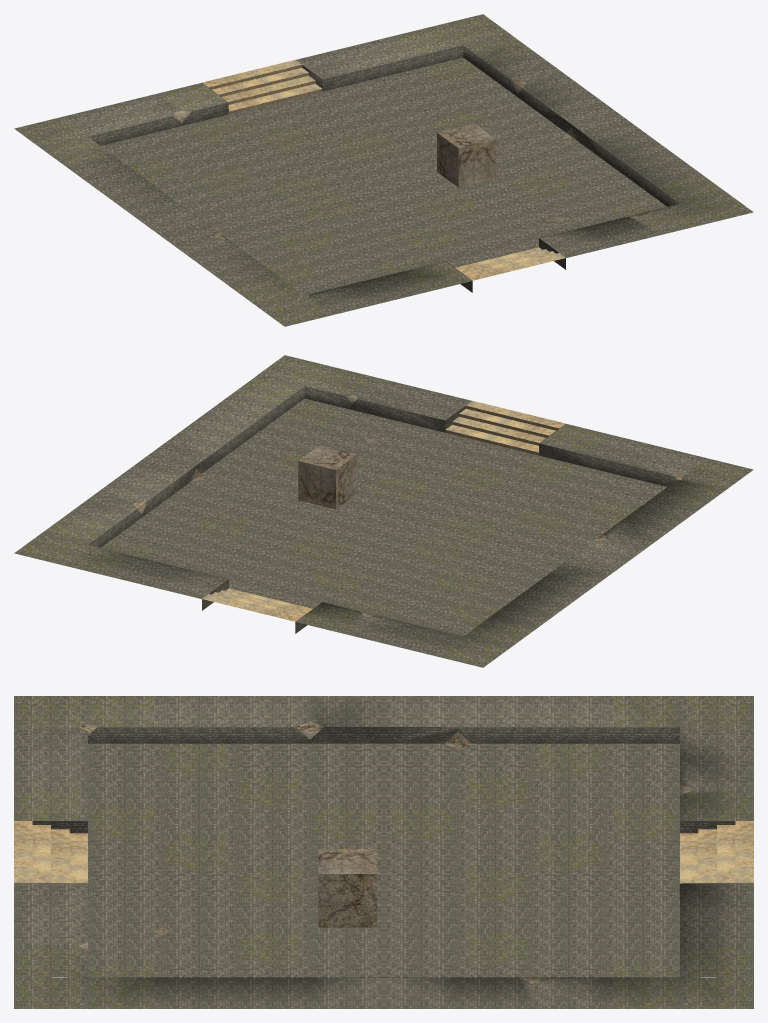
Rendered from battle_stage3.FBX.
3 views of the same model, one above another, from view 1: azimuth 30°, elevation 25°; view 2: azimuth 150°, elevation 25°; view 3: azimuth 270°, elevation 25° (orthographic). The views are drawn at different scales.
Visible parts, largest first — view 1: Plane003, Box001; view 2: Plane003, Box001; view 3: Plane003, Box001.
Boxes of the visible parts, bbox=[...] form: Plane003: bbox=[14, 14, 753, 326]; Box001: bbox=[437, 123, 496, 187]; Plane003: bbox=[14, 355, 753, 667]; Box001: bbox=[298, 445, 357, 509]; Plane003: bbox=[14, 696, 753, 1008]; Box001: bbox=[318, 849, 377, 927].
Bounding box in the file's own units: 14769 × 1181 × 14764.
